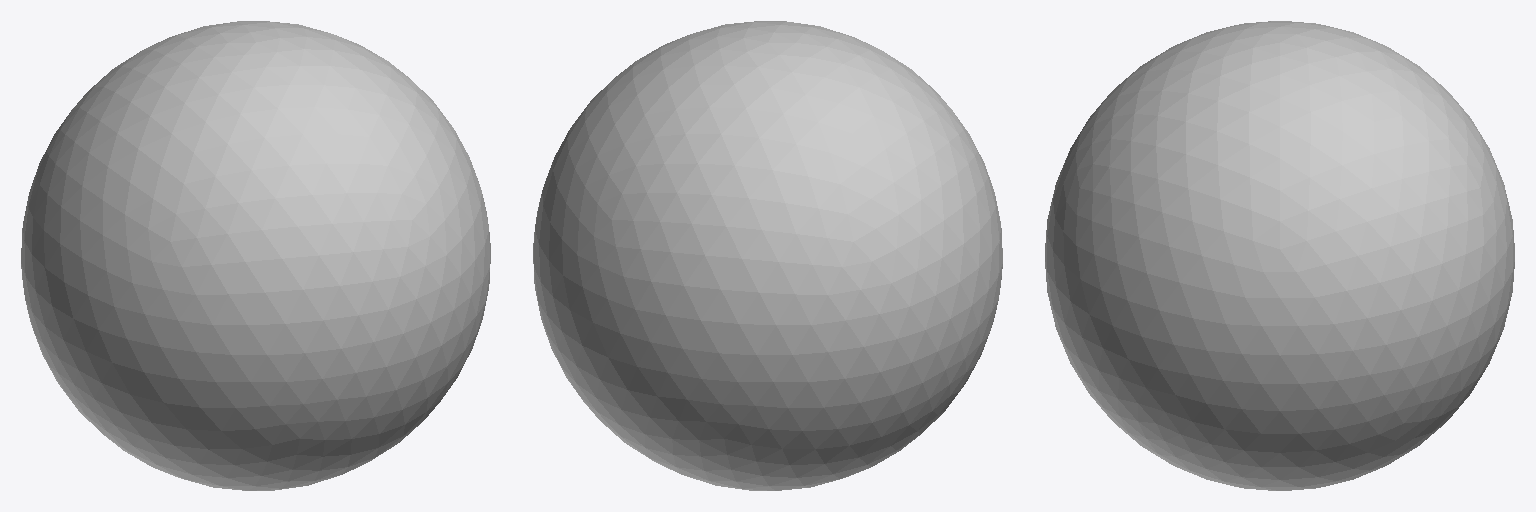
The model's file is ico4uv.obj.
3 renders of one model, left to right at view 1: azimuth 30°, elevation 25°; view 2: azimuth 150°, elevation 25°; view 3: azimuth 270°, elevation 25°, orthographic.
Visible parts, largest first — view 1: Icosphere_Icosphere.003; view 2: Icosphere_Icosphere.003; view 3: Icosphere_Icosphere.003.
Part boxes in pixels (left/top/right/bottom): Icosphere_Icosphere.003: left=21, top=21, right=490, bottom=490; Icosphere_Icosphere.003: left=533, top=21, right=1002, bottom=490; Icosphere_Icosphere.003: left=1045, top=21, right=1514, bottom=490.
Size of the model in its own units: 2 by 2 by 2.